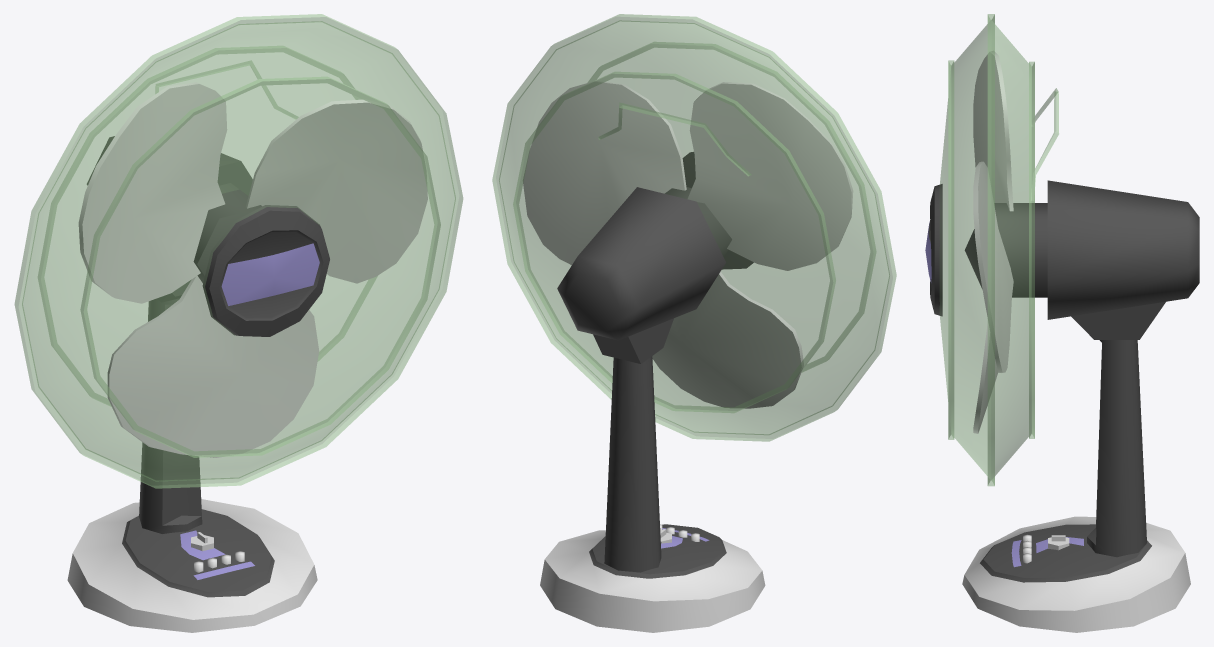
The model's file is MIDEAFT406B.FBX.
3 views of the same model, side by side, from view 1: azimuth 30°, elevation 25°; view 2: azimuth 150°, elevation 25°; view 3: azimuth 270°, elevation 25° (orthographic). The views are drawn at different scales.
Parts seen in each view (by area): view 1: MIDEAFT406B; view 2: MIDEAFT406B; view 3: MIDEAFT406B.
Boxes of the visible parts, left/top/right/bottom form: MIDEAFT406B: left=14, top=14, right=463, bottom=632; MIDEAFT406B: left=492, top=14, right=896, bottom=632; MIDEAFT406B: left=925, top=14, right=1199, bottom=632.
Size of the model in its own units: 39.6 by 22.96 by 50.66.
